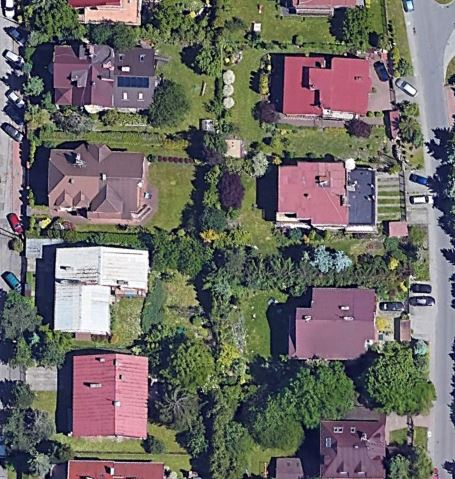family house: (49, 243, 156, 340), (44, 139, 160, 222), (269, 158, 382, 235), (51, 41, 163, 114), (67, 352, 152, 440), (285, 285, 378, 361), (280, 53, 373, 120), (315, 417, 387, 479)
